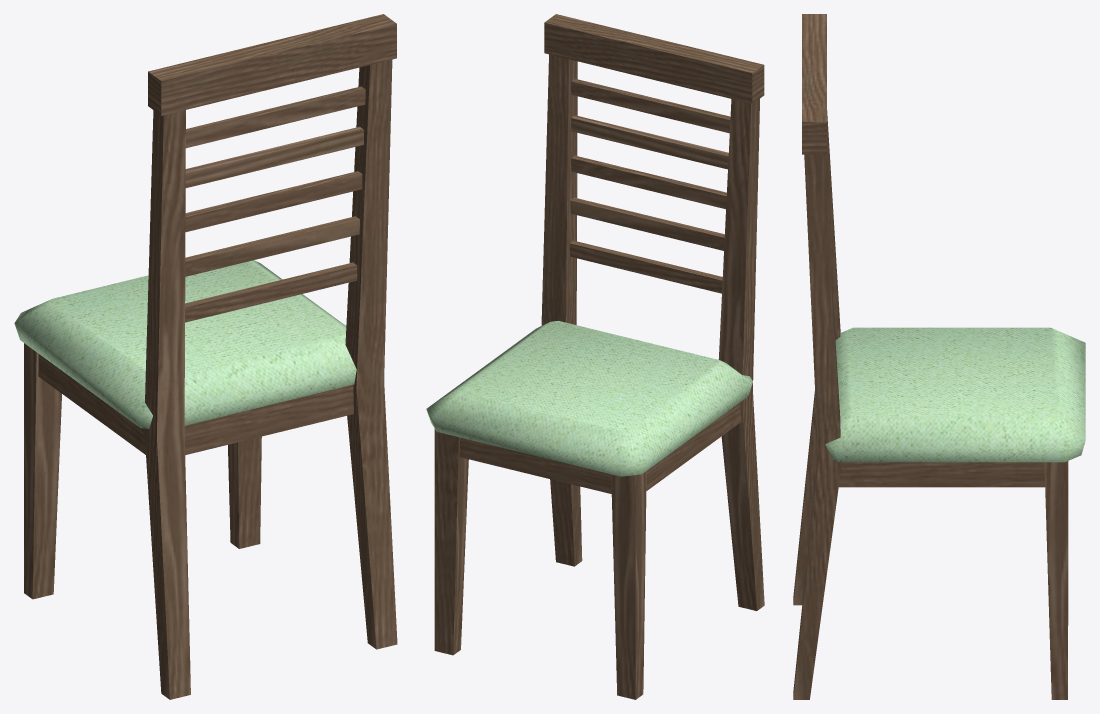
The model's file is Chair_05.glb.
3 renders of one model, left to right at view 1: azimuth 30°, elevation 25°; view 2: azimuth 150°, elevation 25°; view 3: azimuth 270°, elevation 25°, orthographic. The views are drawn at different scales.
Parts seen in each view (by area): view 1: Chair_05; view 2: Chair_05; view 3: Chair_05.
Part boxes in pixels (x1,y1,x2,y2): Chair_05: [14, 14, 397, 699]; Chair_05: [426, 14, 764, 699]; Chair_05: [793, 14, 1085, 699].
Size of the model in its own units: 0.5252 by 1.26 by 0.5743.
Materials: 2 (2 with a texture image).
